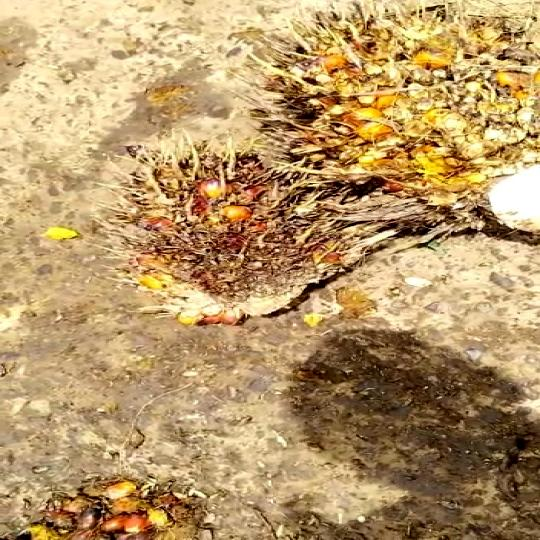terlalu masak: (98, 134, 368, 328)
